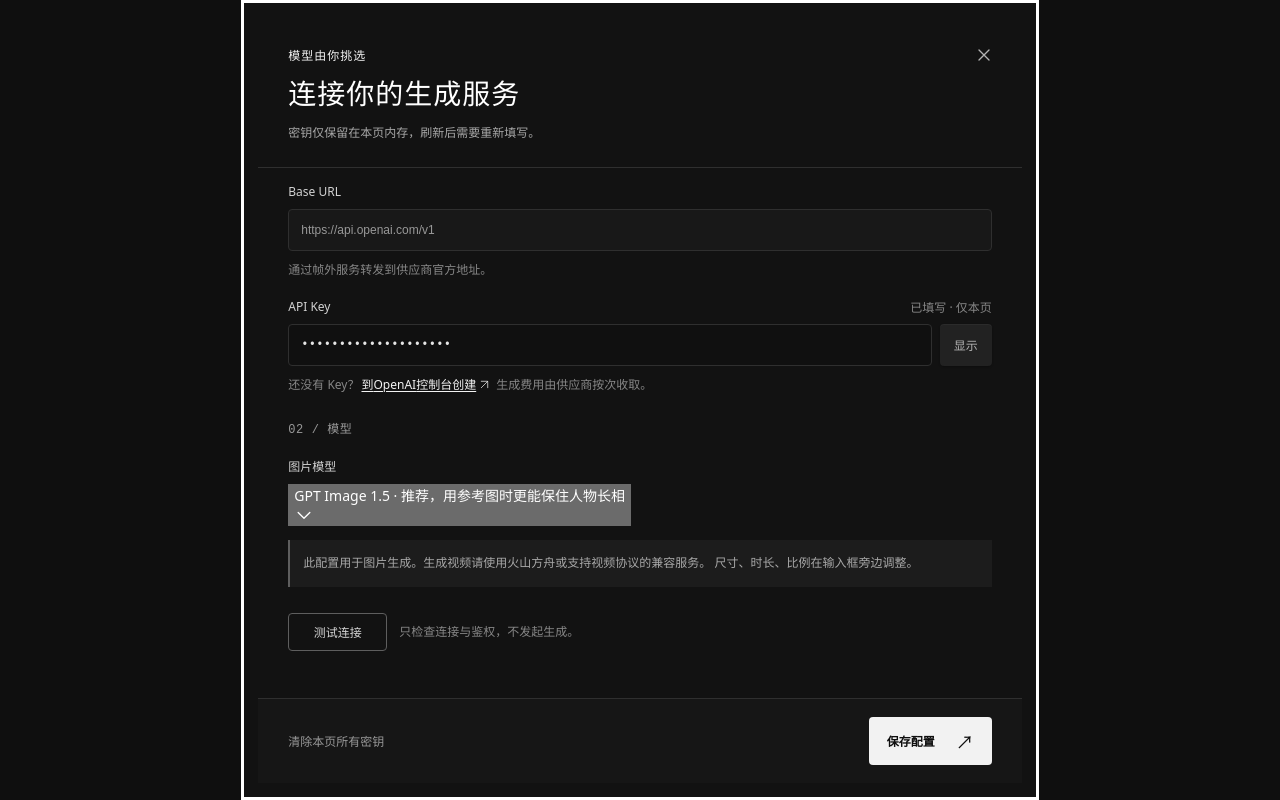
API settings provider profiles and cancellation › redacts connection error messages instead of displaying the API key
(page scrolled)
Click the button "测试连接" at (338, 632), box [288,613,387,651]
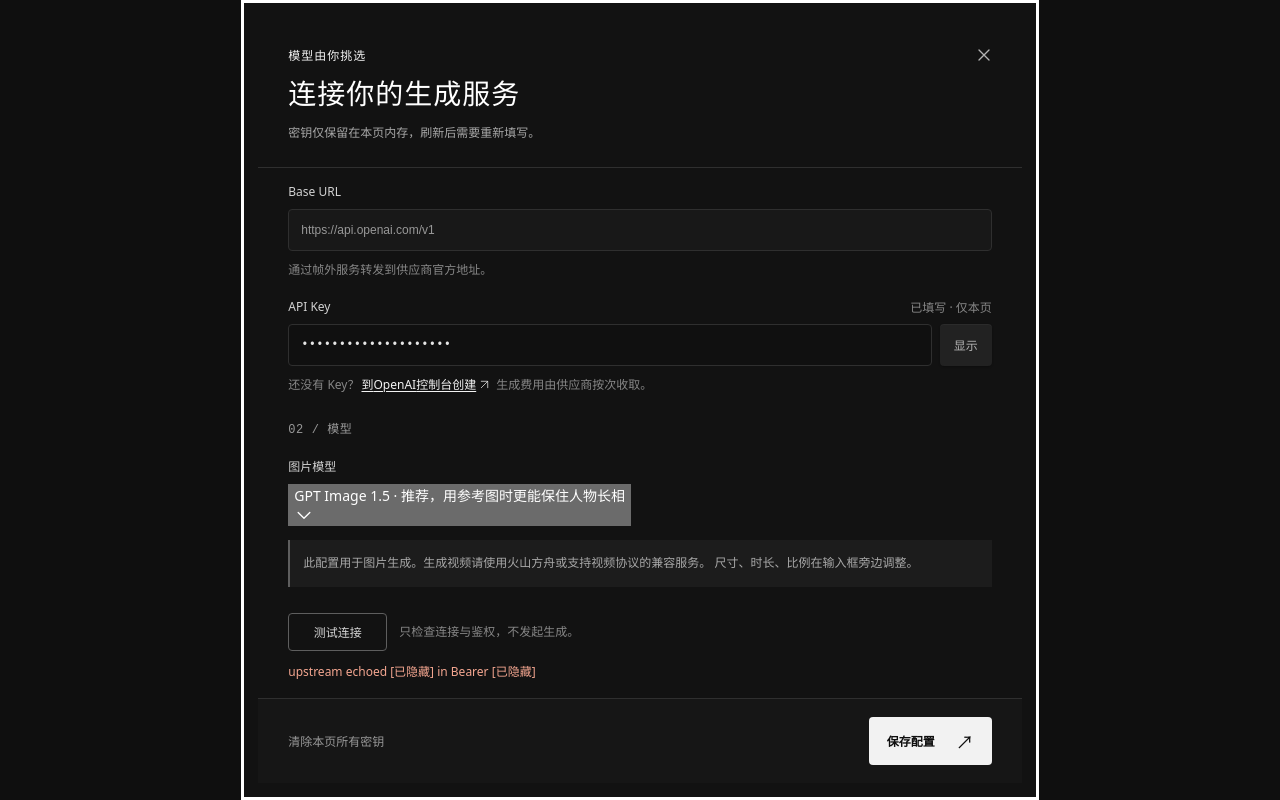
Check: the message shows "[已隐藏]", box [288,663,536,680]
